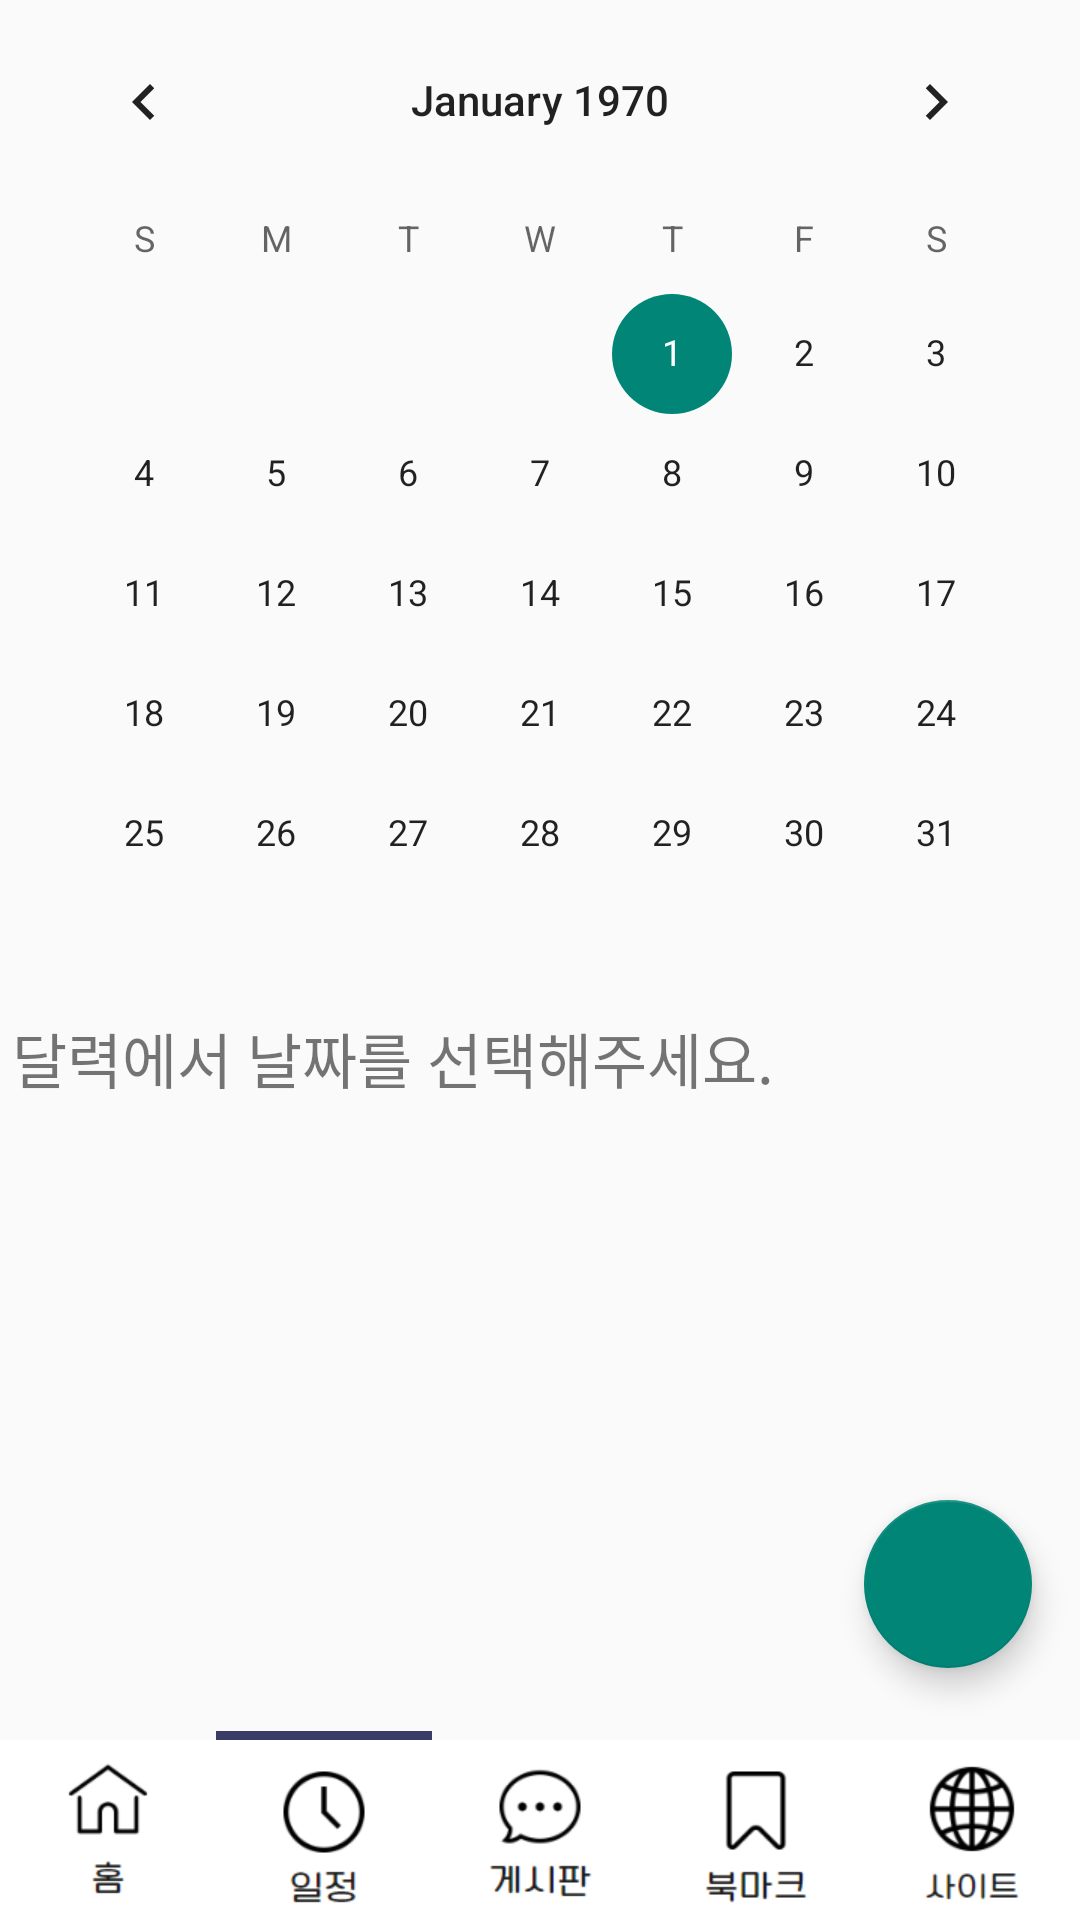

Screen size 1080 x 1920. Icon name, then its center in pixels as (x=x, y=y):
bottom chat: (x=541, y=1833)
